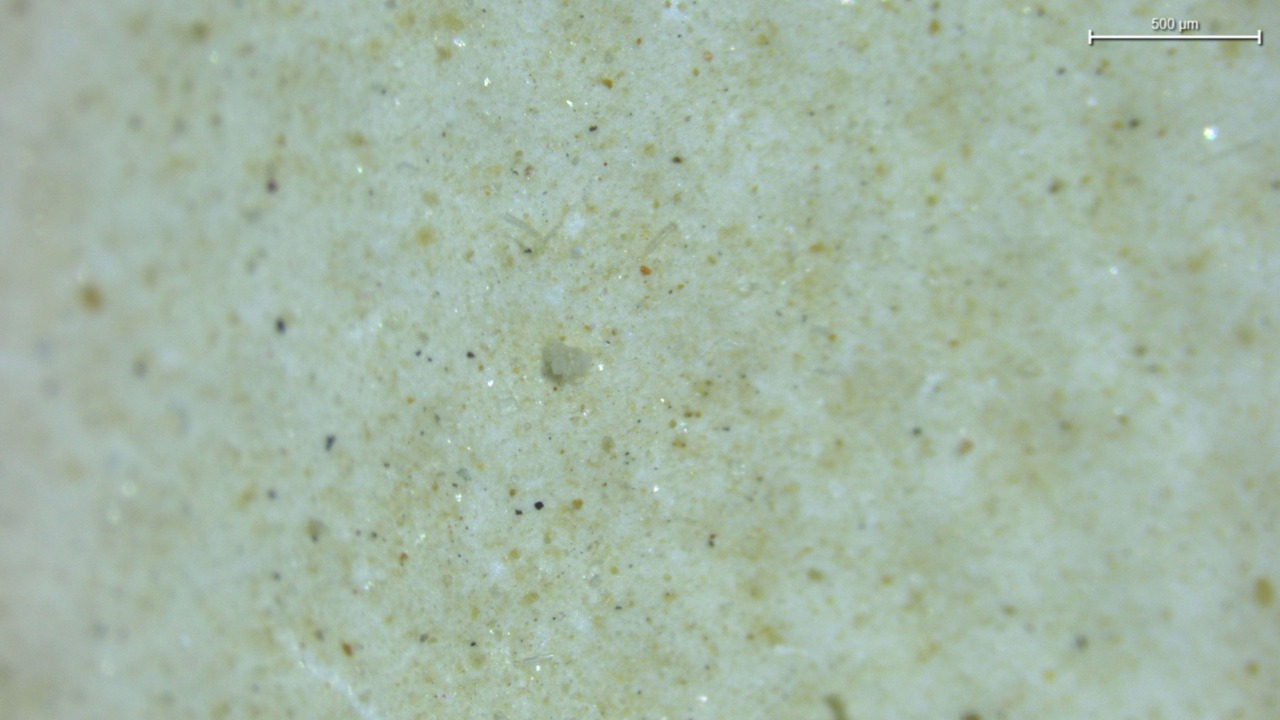microplastic_fragment: (542, 341, 592, 384)
